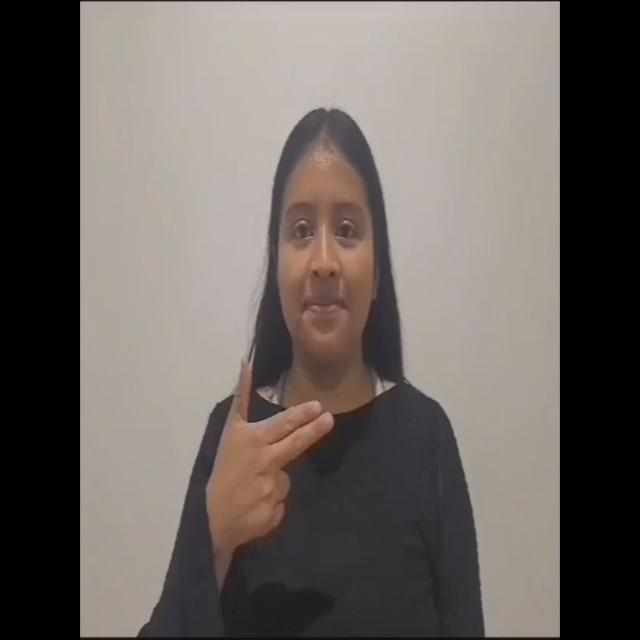H: (205, 342, 353, 552)
